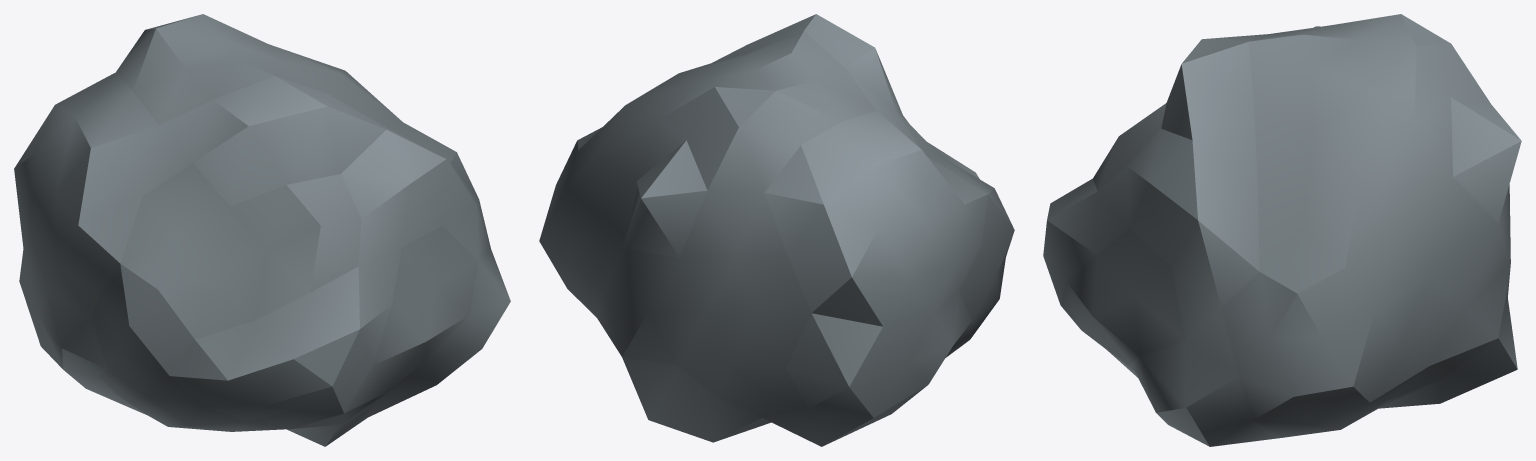
Rendered from Rock_3_Q.glb.
3 views of the same model, side by side, from view 1: azimuth 30°, elevation 25°; view 2: azimuth 150°, elevation 25°; view 3: azimuth 270°, elevation 25° (orthographic). The views are drawn at different scales.
Parts seen in each view (by area): view 1: Rock_3_Q_Color1; view 2: Rock_3_Q_Color1; view 3: Rock_3_Q_Color1.
Part boxes in pixels (left/top/right/bottom): Rock_3_Q_Color1: left=14, top=14, right=510, bottom=446; Rock_3_Q_Color1: left=539, top=14, right=1014, bottom=446; Rock_3_Q_Color1: left=1043, top=14, right=1521, bottom=446.
Bounding box in the file's own units: 4.65 × 3.72 × 4.48.
1 material, 1 textured.
